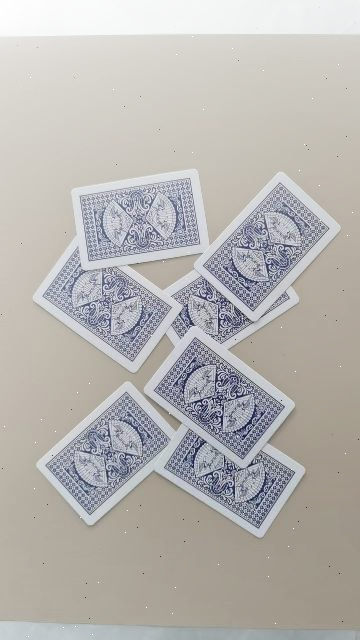card: (195, 172, 340, 320), (145, 326, 294, 468), (36, 382, 175, 525), (34, 239, 181, 372), (155, 425, 305, 538), (71, 169, 209, 270), (165, 270, 299, 349)
